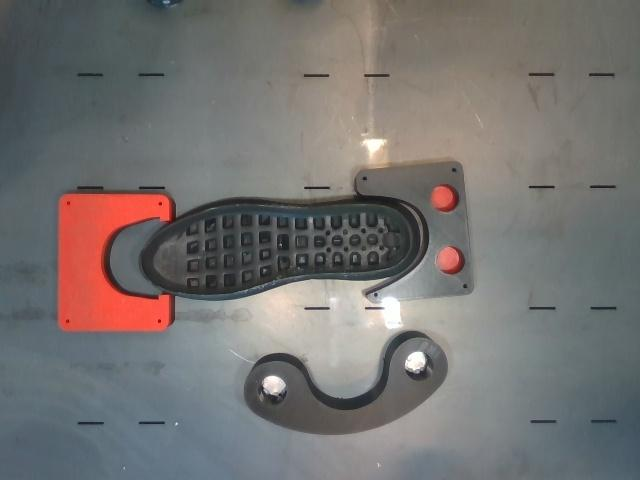shoes: (141, 204, 411, 295)
